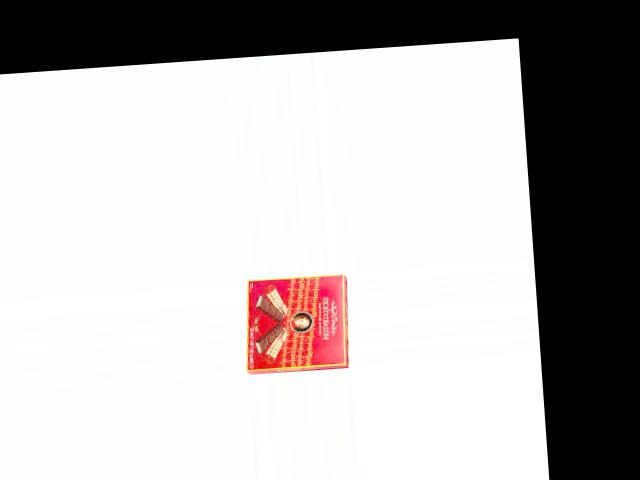chocolate: (237, 271, 351, 376)
